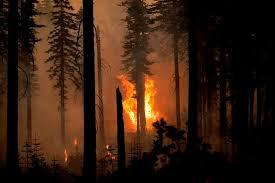fire: (110, 65, 171, 139)
